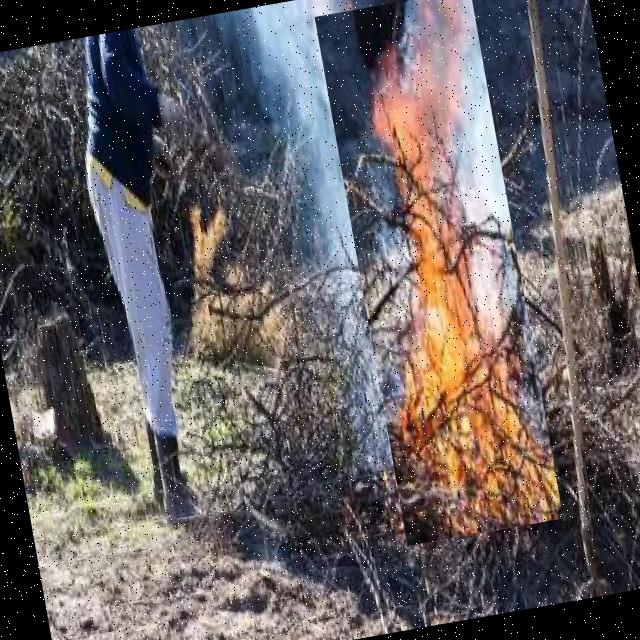fire: (314, 0, 563, 545)
